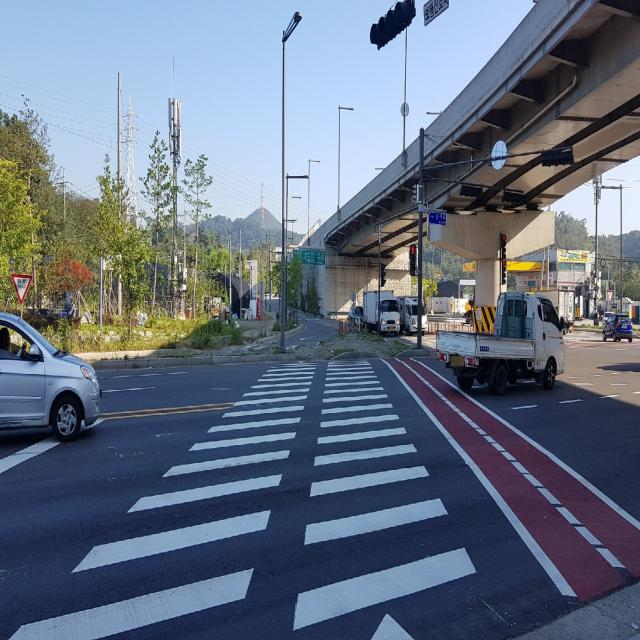횡단보도: (6, 358, 478, 640)
